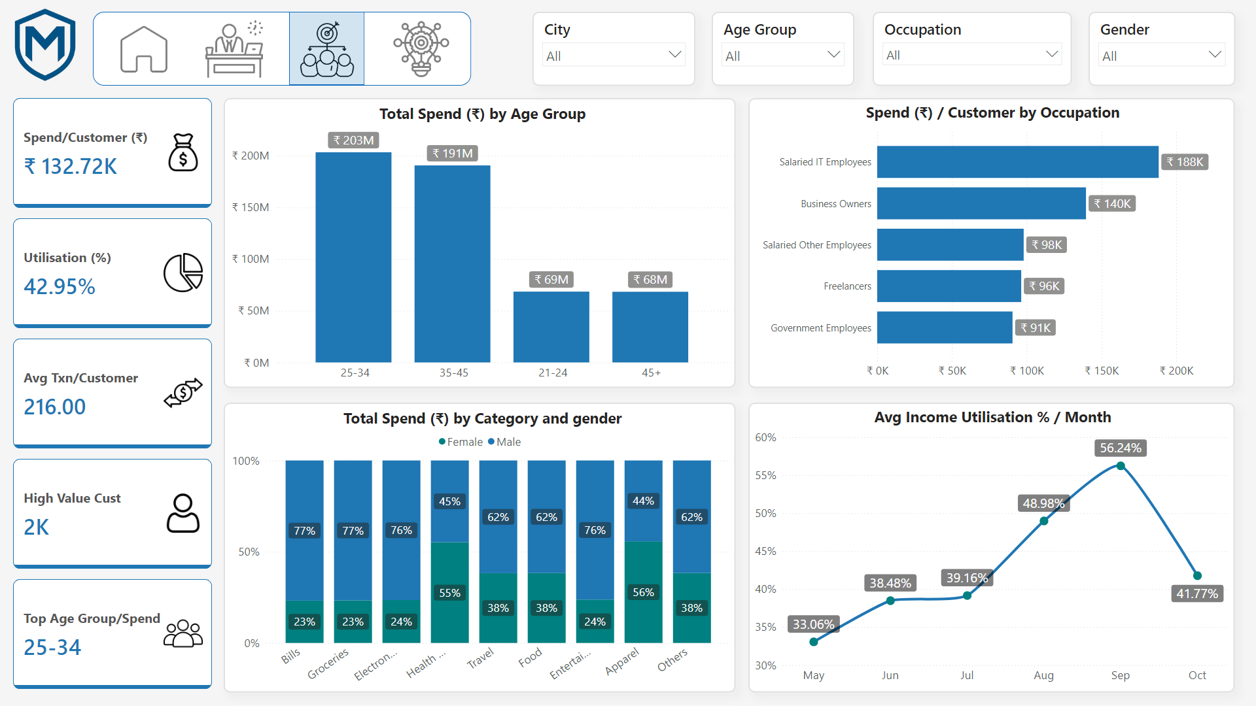

This screenshot's page, from the dashboard's own definition file:
{"tool":"powerbi","page":{"name":"Customer Segmentation","canvas":[1920,1080],"ordinal":2},"visuals":[{"type":"image","box":[11.1,6.7,113.3,124.4],"z":0},{"type":"shape","box":[141.3,17.4,578.3,113],"z":0,"group":"g5"},{"type":"image","box":[305.4,25.1,104.3,97.8],"z":0,"group":"g3"},{"type":"image","box":[167.4,25.6,104.3,97.8],"z":0,"group":"g2"},{"type":"image","box":[447.8,25.6,104.3,97.8],"z":0,"group":"g4"},{"type":"image","box":[591.3,25.6,104.3,97.8],"z":0,"group":"g1"},{"type":"shape","box":[441.8,17.4,115.2,112],"z":500,"group":"g4"},{"type":"actionButton","box":[303.9,25.1,104.3,97.8],"z":500,"group":"g3"},{"type":"slicer","fields":{"Values":["dim_customers.city"]},"box":[813.3,17.8,248.9,113.3],"z":1000},{"type":"group","id":"g1","title":"Insights","box":[589.1,25.6,106.5,97.8],"z":1000,"group":"g5"},{"type":"actionButton","box":[589.1,25.6,104.3,97.8],"z":1000,"group":"g1"},{"type":"actionButton","box":[167.4,26.1,104.3,97.8],"z":1000,"group":"g2"},{"type":"slicer","fields":{"Values":["dim_customers.age_group"]},"box":[1088.9,17.8,217.8,113.3],"z":2000},{"type":"group","id":"g2","title":"Home","box":[167.4,25.6,104.3,98.4],"z":2000,"group":"g5"},{"type":"slicer","fields":{"Values":["dim_customers.occupation"]},"box":[1333.3,17.8,304.4,113.3],"z":3000},{"type":"group","id":"g3","title":"Executive","box":[303.9,25.1,105.8,97.8],"z":3000,"group":"g5"},{"type":"group","id":"g4","title":"Customer","box":[441.8,17.4,115.2,112],"z":4000,"group":"g5"},{"type":"slicer","fields":{"Values":["dim_customers.gender"]},"box":[1664.4,17.8,224.4,113.3],"z":4000},{"type":"cardVisual","fields":{"Data":["Key_Measures.Spend per Customer","Key_Measures.Avg Income Utilisation % NEW","Key_Measures.Avg Transactions per Customer","Key_Measures.High Value Customers","Key_Measures.Top Age Group by Spend"]},"box":[19.6,150,304.3,908.7],"z":5000},{"type":"clusteredColumnChart","title":"Total Spend (₹) by Age Group","fields":{"Category":["dim_customers.age_group"],"Y":["Key_Measures.Total Spend"]},"box":[341.3,150,782.6,443.5],"z":6000},{"type":"clusteredBarChart","title":"Spend (₹) / Customer by Occupation","fields":{"Category":["dim_customers.occupation"],"Y":["Key_Measures.Spend per Customer (seg)"]},"box":[1143.5,150,743.5,443.5],"z":7000},{"type":"hundredPercentStackedColumnChart","title":"Total Spend (₹) by Category and gender","fields":{"Series":["dim_customers.gender"],"Category":["fact_spends.category"],"Y":["Key_Measures.Total Spend"]},"box":[341.3,615.2,782.6,443.5],"z":8000},{"type":"lineChart","title":"Avg Income Utilisation % / Month","fields":{"Category":["Calendar.Month-Name"],"Y":["Key_Measures.Avg Income Utilisation %"]},"box":[1143.5,615.2,743.5,443.5],"z":9000},{"type":"group","id":"g5","title":"Nav Bar","box":[141.3,17.4,578.3,113],"z":10000}]}

Visuals, with their boxes in screenshot pixels (x1, y1, x2, y2), scaled from the page's 1920x1080 canvas onto the 1256x719 screenshot:
image: <bbox>7, 4, 81, 87</bbox>
shape: <bbox>92, 12, 471, 87</bbox>
image: <bbox>200, 17, 268, 82</bbox>
image: <bbox>110, 17, 178, 82</bbox>
image: <bbox>293, 17, 361, 82</bbox>
image: <bbox>387, 17, 455, 82</bbox>
shape: <bbox>289, 12, 364, 86</bbox>
actionButton: <bbox>199, 17, 267, 82</bbox>
slicer - dim_customers.city: <bbox>532, 12, 695, 87</bbox>
"Insights" group: <bbox>385, 17, 455, 82</bbox>
actionButton: <bbox>385, 17, 454, 82</bbox>
actionButton: <bbox>110, 17, 178, 82</bbox>
slicer - dim_customers.age_group: <bbox>712, 12, 855, 87</bbox>
"Home" group: <bbox>110, 17, 178, 83</bbox>
slicer - dim_customers.occupation: <bbox>872, 12, 1071, 87</bbox>
"Executive" group: <bbox>199, 17, 268, 82</bbox>
"Customer" group: <bbox>289, 12, 364, 86</bbox>
slicer - dim_customers.gender: <bbox>1089, 12, 1236, 87</bbox>
cardVisual - Key_Measures.Spend per Customer x Key_Measures.Avg Income Utilisation % NEW: <bbox>13, 100, 212, 705</bbox>
"Total Spend (₹) by Age Group" clusteredColumnChart: <bbox>223, 100, 735, 395</bbox>
"Spend (₹) / Customer by Occupation" clusteredBarChart: <bbox>748, 100, 1234, 395</bbox>
"Total Spend (₹) by Category and gender" hundredPercentStackedColumnChart: <bbox>223, 410, 735, 705</bbox>
"Avg Income Utilisation % / Month" lineChart: <bbox>748, 410, 1234, 705</bbox>
"Nav Bar" group: <bbox>92, 12, 471, 87</bbox>
